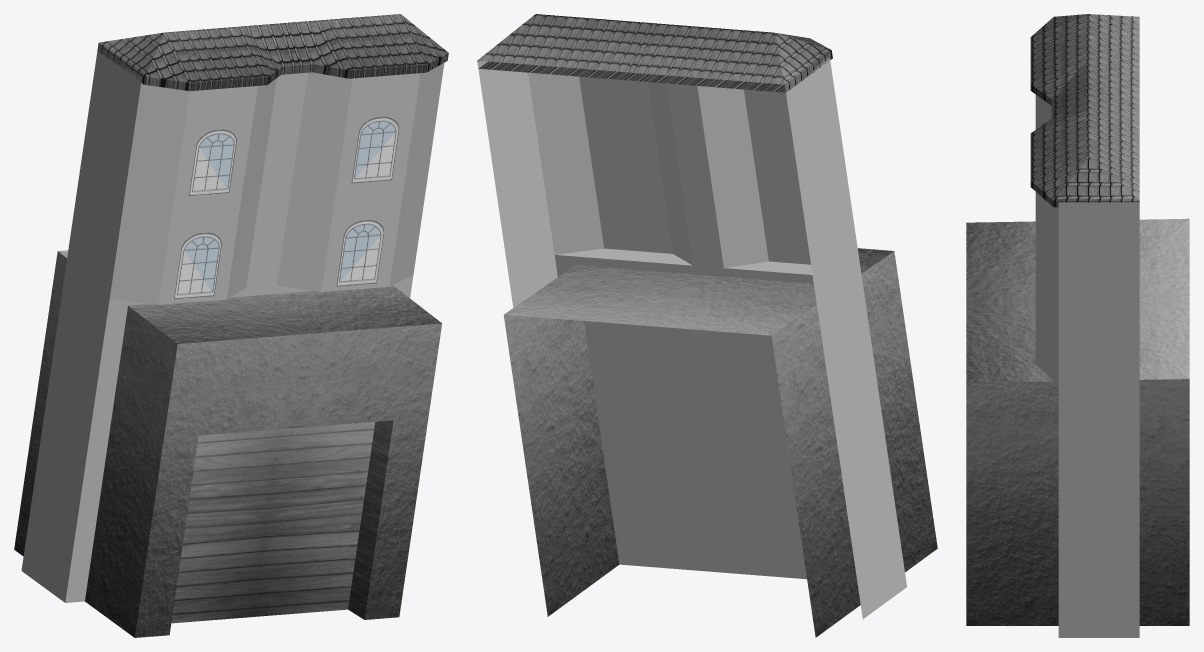
File: Casa.fbx
3 renders of one model, left to right at view 1: azimuth 30°, elevation 25°; view 2: azimuth 150°, elevation 25°; view 3: azimuth 270°, elevation 25°, orthographic. The views are drawn at different scales.
Visible parts, largest first — view 1: Cube.002; view 2: Cube.002; view 3: Cube.002.
Part boxes in pixels (<box>): Cube.002: <box>14,14,448,637</box>; Cube.002: <box>477,14,937,637</box>; Cube.002: <box>966,14,1189,637</box>.
Size of the model in its own units: 78225 by 114090 by 42911.
